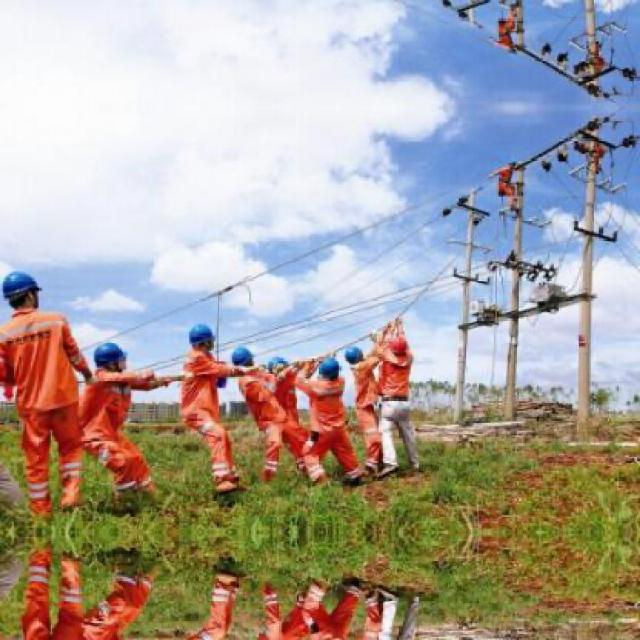helmet: (3, 263, 43, 312), (91, 337, 129, 371), (188, 320, 222, 352), (265, 352, 292, 382), (345, 342, 372, 371), (231, 344, 255, 374), (388, 332, 412, 358), (317, 354, 340, 380)
